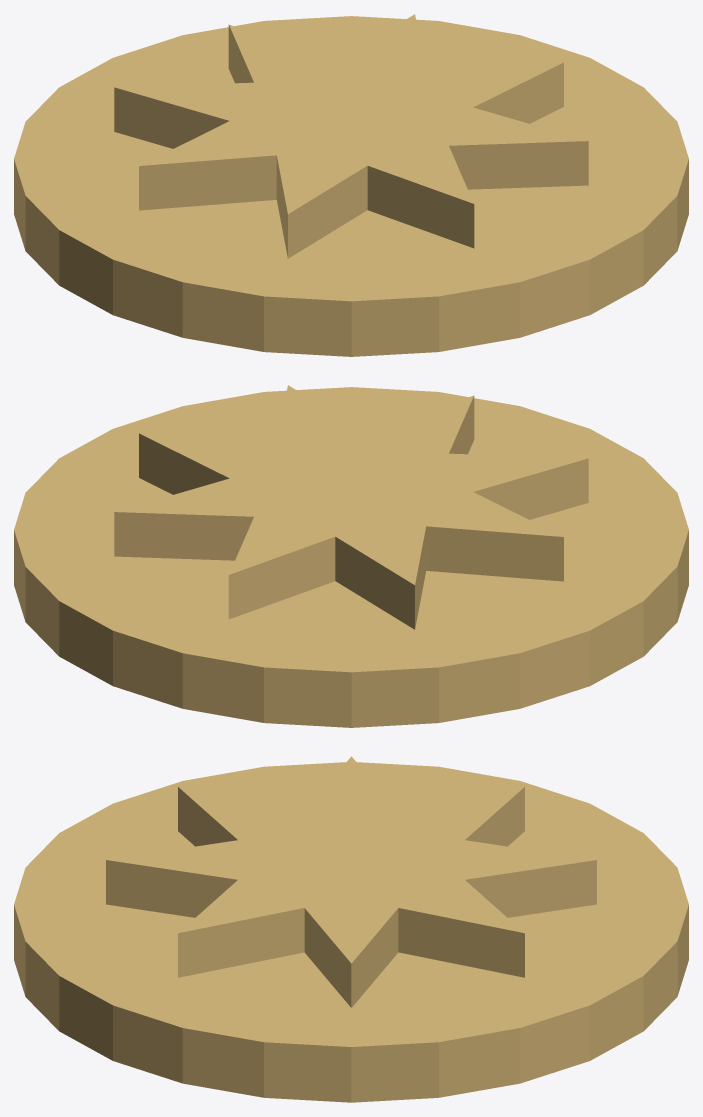
The model's file is 3d-preview-demo.glb.
3 renders of one model, top to bottom at view 1: azimuth 30°, elevation 25°; view 2: azimuth 150°, elevation 25°; view 3: azimuth 270°, elevation 25°, orthographic.
Size of the model in its own units: 0.11 by 0.018 by 0.11.
